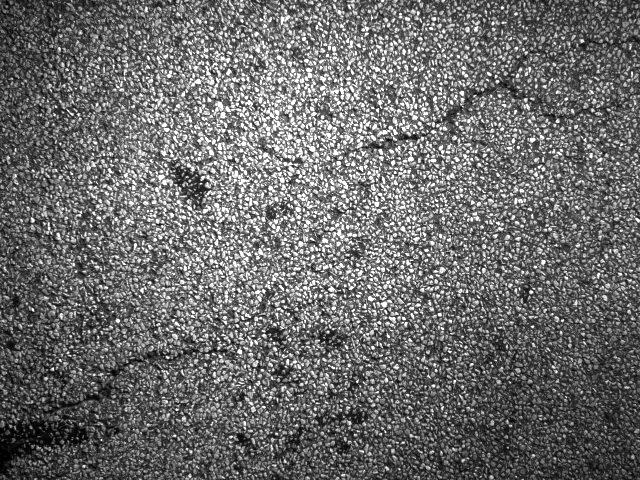crack: (295, 70, 538, 164), (22, 343, 216, 424), (492, 27, 640, 123), (227, 278, 301, 334)
